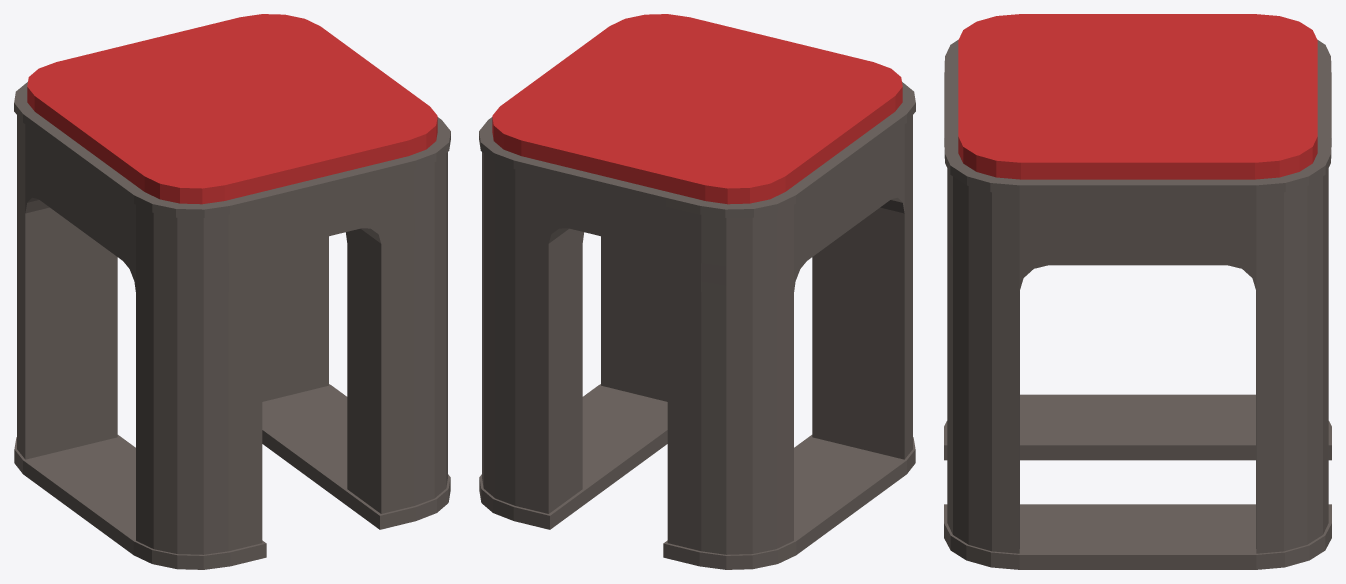
File: SM_stool_01.fbx
The picture shows the model from 3 angles, left to right: view 1: azimuth 30°, elevation 25°; view 2: azimuth 150°, elevation 25°; view 3: azimuth 270°, elevation 25°; orthographic projection. The views are drawn at different scales.
Parts seen in each view (by area): view 1: stool_01; view 2: stool_01; view 3: stool_01.
Boxes of the visible parts, x1,y1,x2,y2 form: stool_01: (14,14,450,569); stool_01: (479,14,915,569); stool_01: (944,14,1331,569).
Size of the model in its own units: 50.35 by 58.72 by 51.42.
